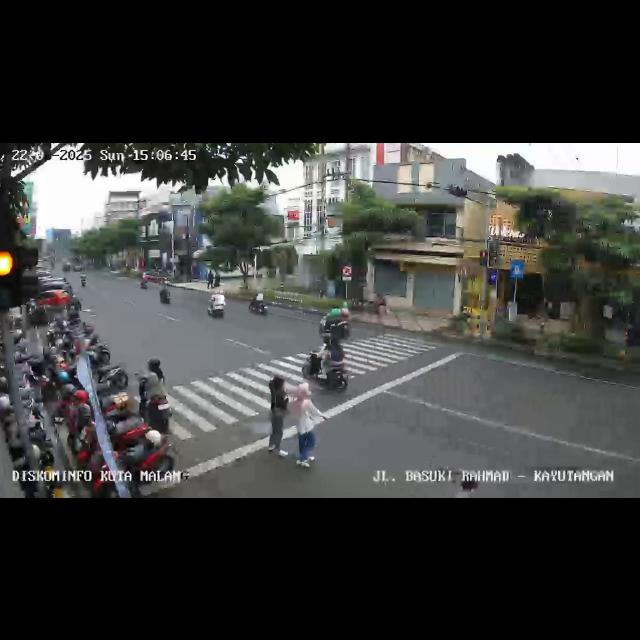car: (27, 278, 73, 314)
motorcycle: (303, 331, 351, 393), (140, 359, 172, 429), (320, 301, 352, 341), (206, 287, 228, 321), (625, 310, 639, 356), (248, 286, 268, 316), (158, 279, 172, 309), (138, 269, 150, 289), (79, 269, 87, 287)
person: (286, 381, 328, 469), (264, 374, 288, 460)
